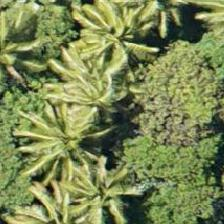coconut_tree: (22, 103, 112, 193), (30, 28, 120, 118), (63, 6, 153, 96), (22, 93, 112, 183), (53, 144, 143, 223), (0, 1, 47, 91)
